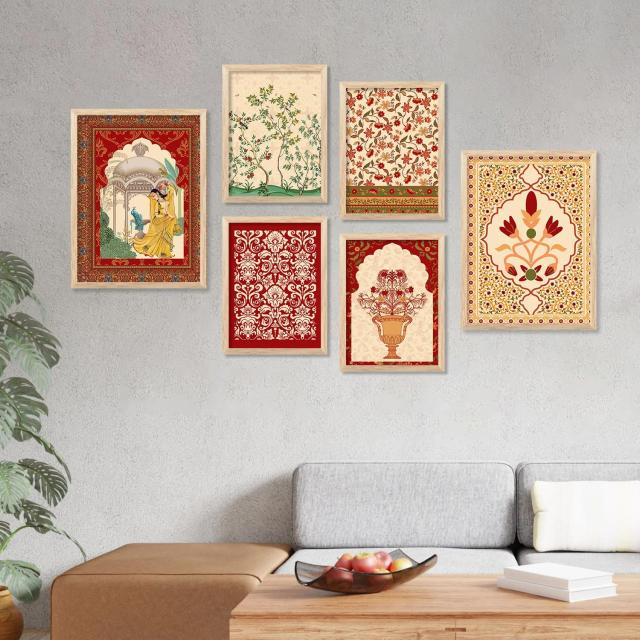painting: (70, 107, 207, 287), (462, 148, 596, 329), (340, 233, 446, 370), (223, 218, 328, 355), (342, 81, 445, 220), (221, 65, 326, 200)
